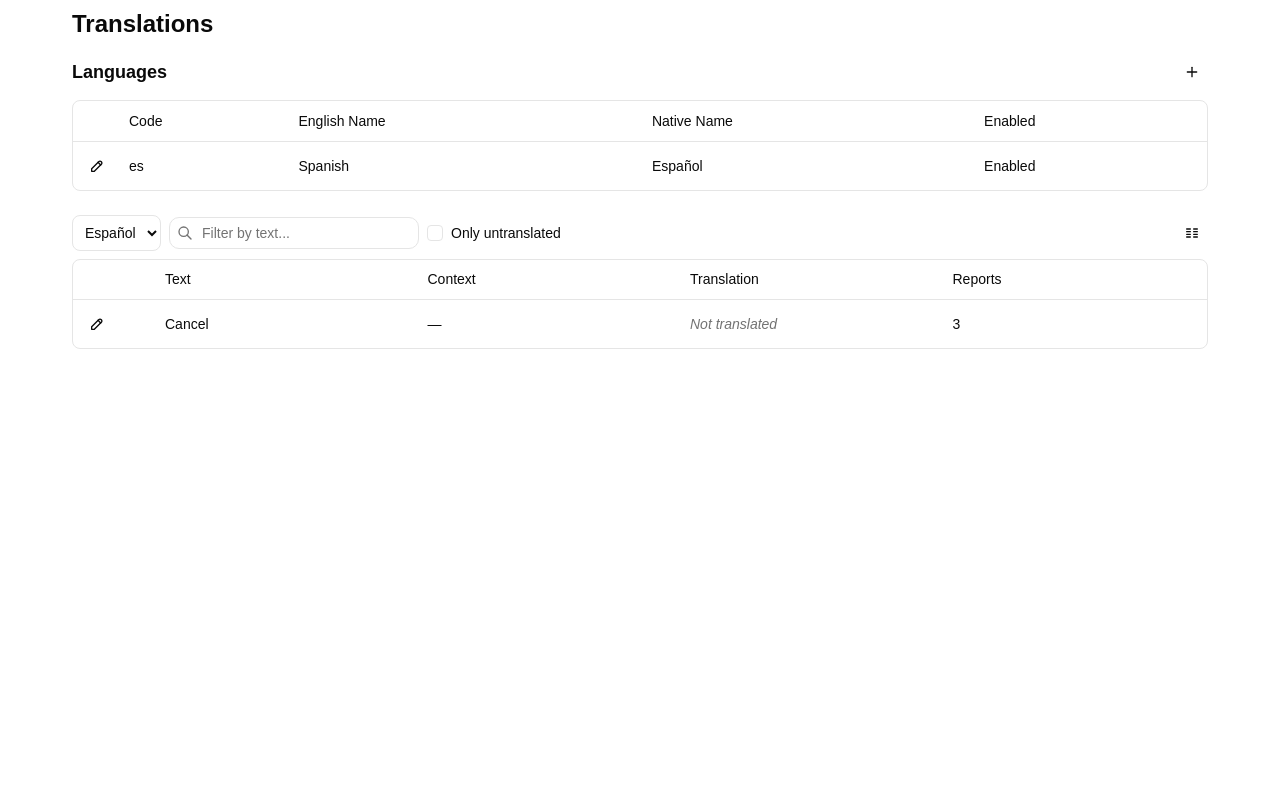
Test: TranslationsAdminPage › edits a translation through the edit modal
The image size is (1280, 800).
expect the text "Cancel" is shown: met, box [157,300,420,348]
Click the button named "Edit translation" at [97, 324], box [81,308,113,340]
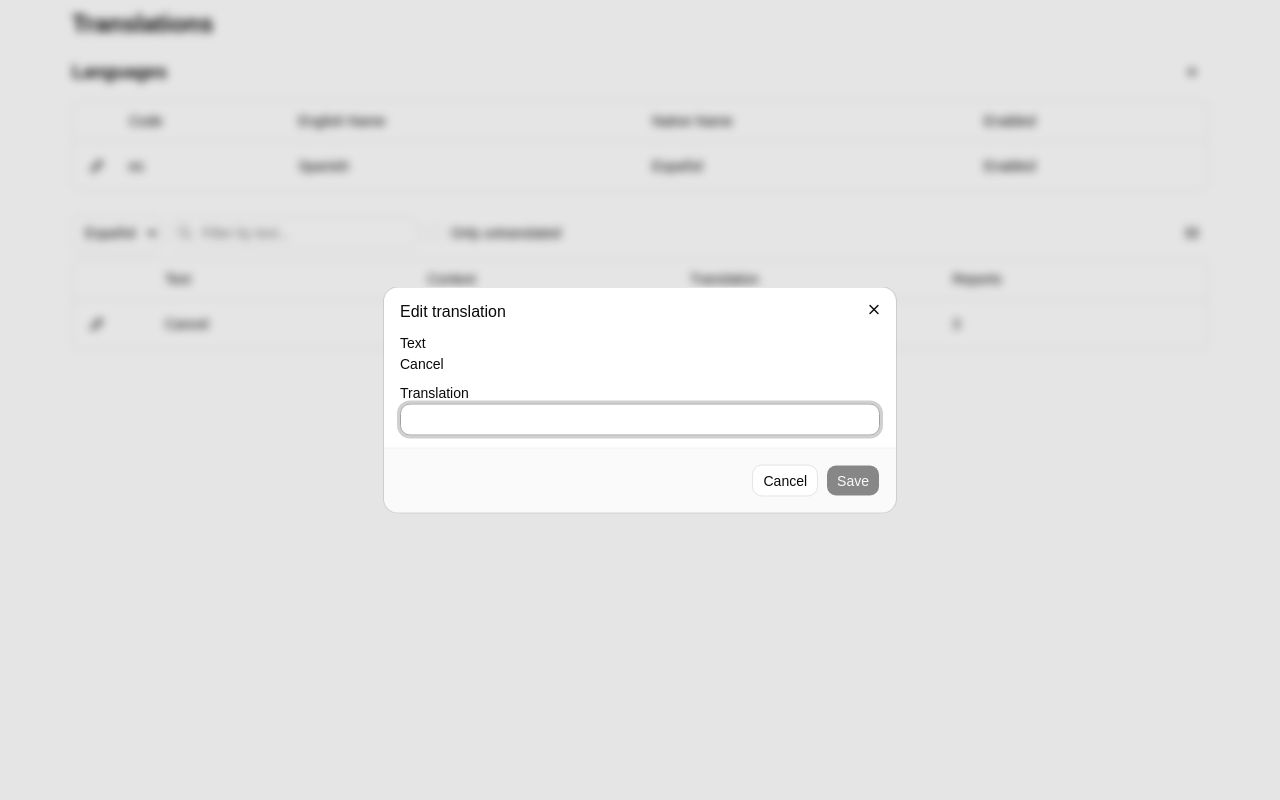
expect the heading "Edit translation" is shown: met, box [400,302,506,320]
expect the button "Save" is disabled: met, box [826,464,880,496]
Type "Cancelar" into the field labelled "Translation" at [640, 420], box [400,404,880,436]
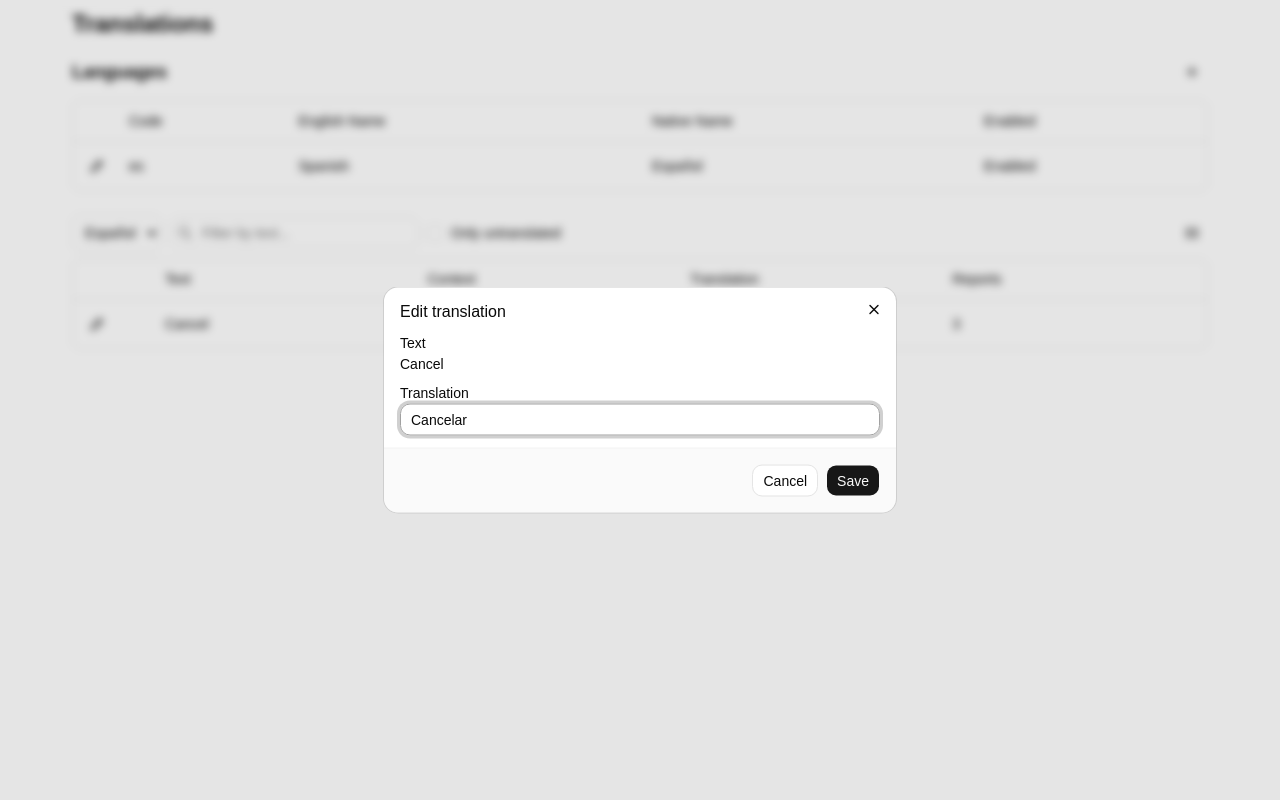
expect the button "Save" is enabled: met
Click the button "Save" at [853, 480], box [826,464,880,496]
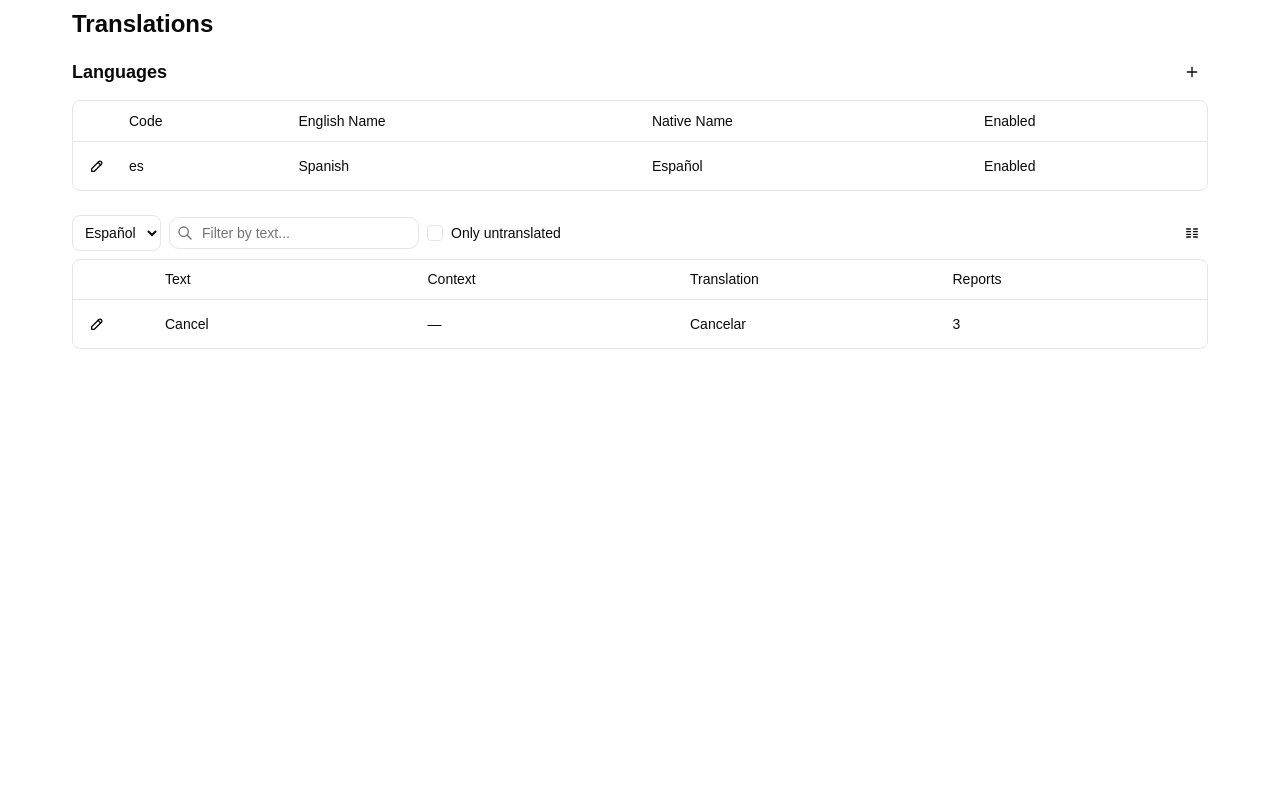
expect the dialog is gone: met
expect the text "Cancelar" is shown: met, box [682,300,944,348]
